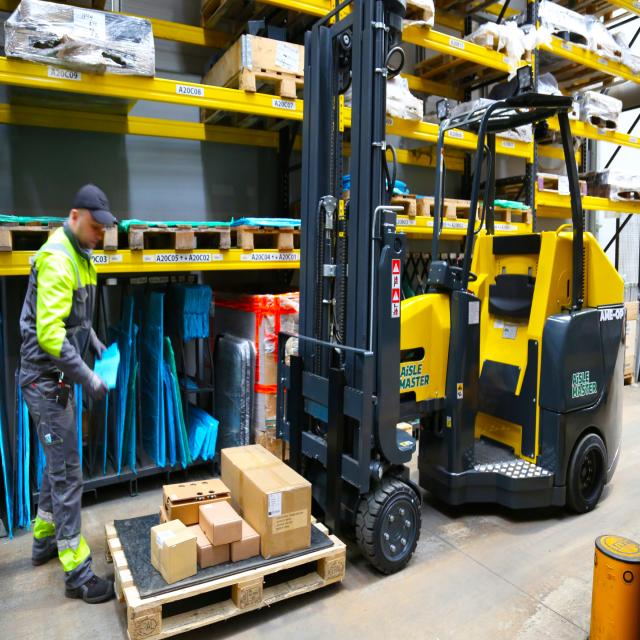Person: (16, 184, 117, 604)
